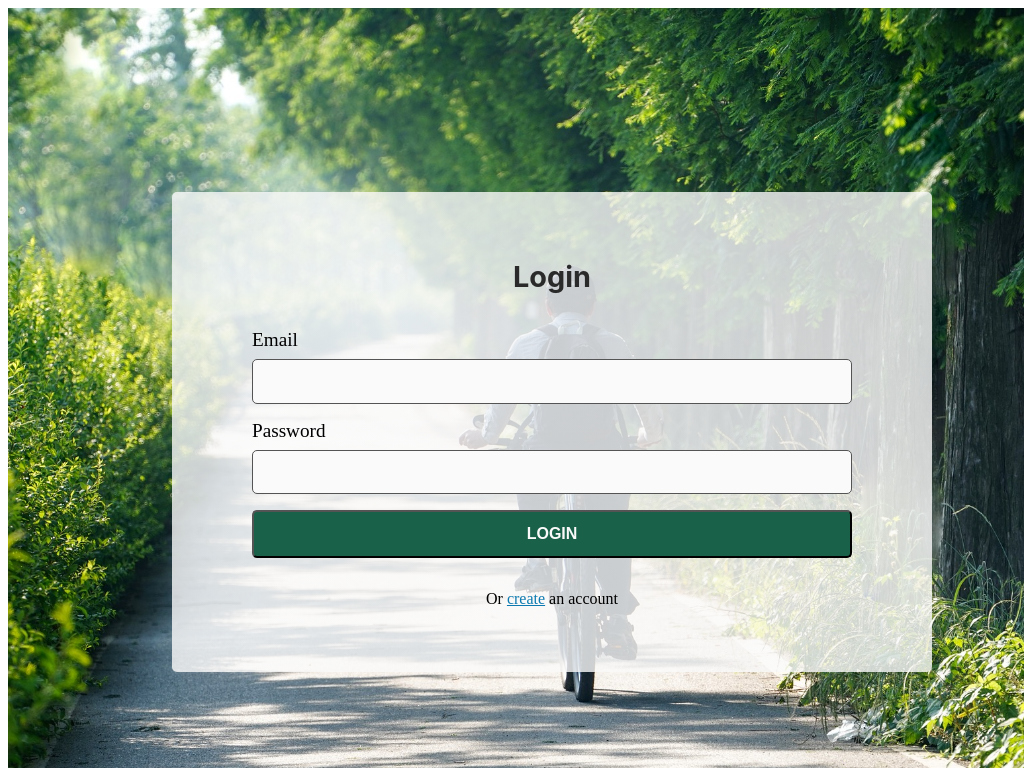
Scenario: LoginPage component › Log in with valid credentials but API returns 500 code
Type "test@example.com" into the field labelled "Email" at [552, 382], box [252,359,852,404]
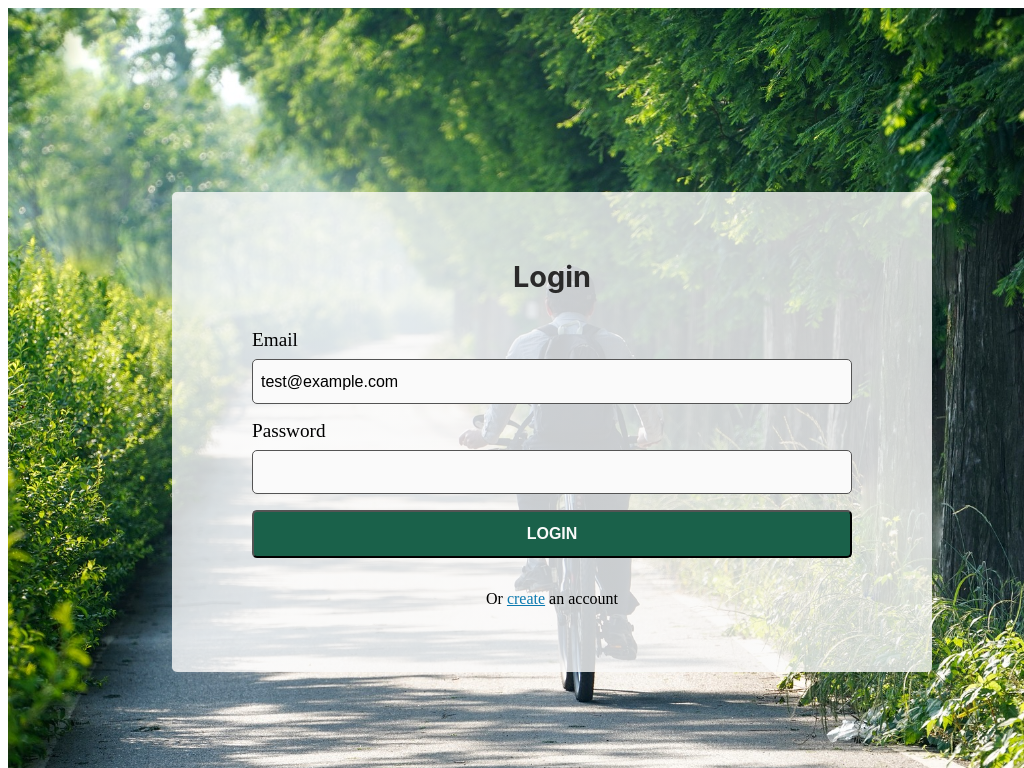
Type "password123" into the password field labelled "Password" at [552, 472], box [252,450,852,494]
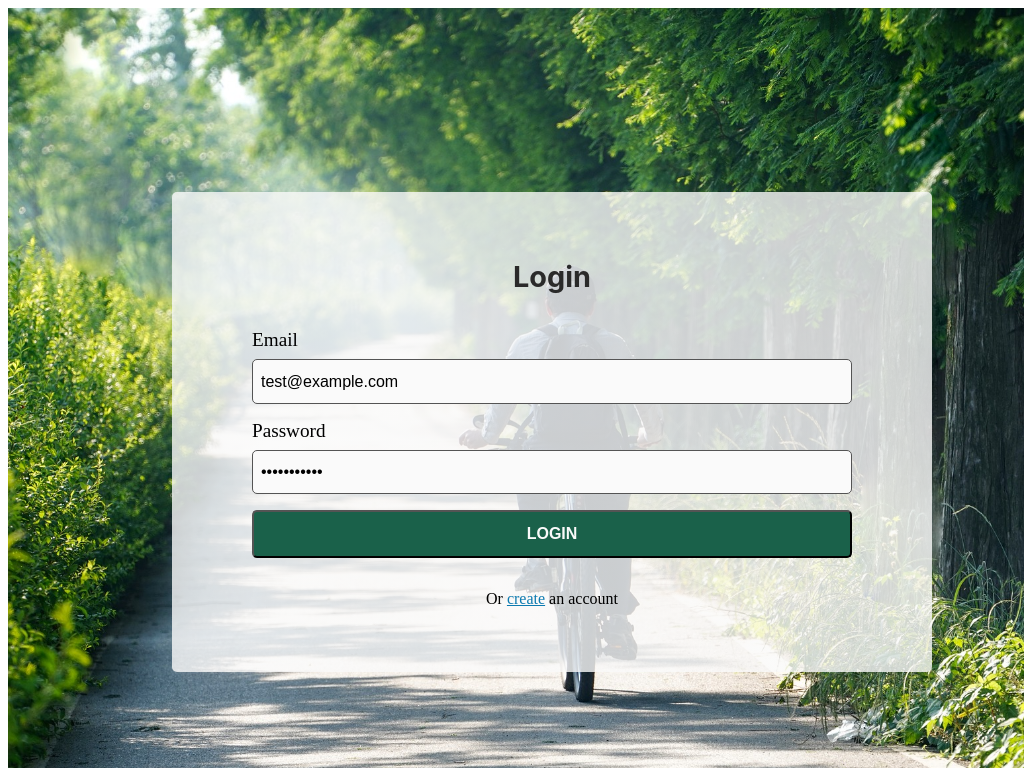
Click the button "Login" at [552, 534], box [252,510,852,558]
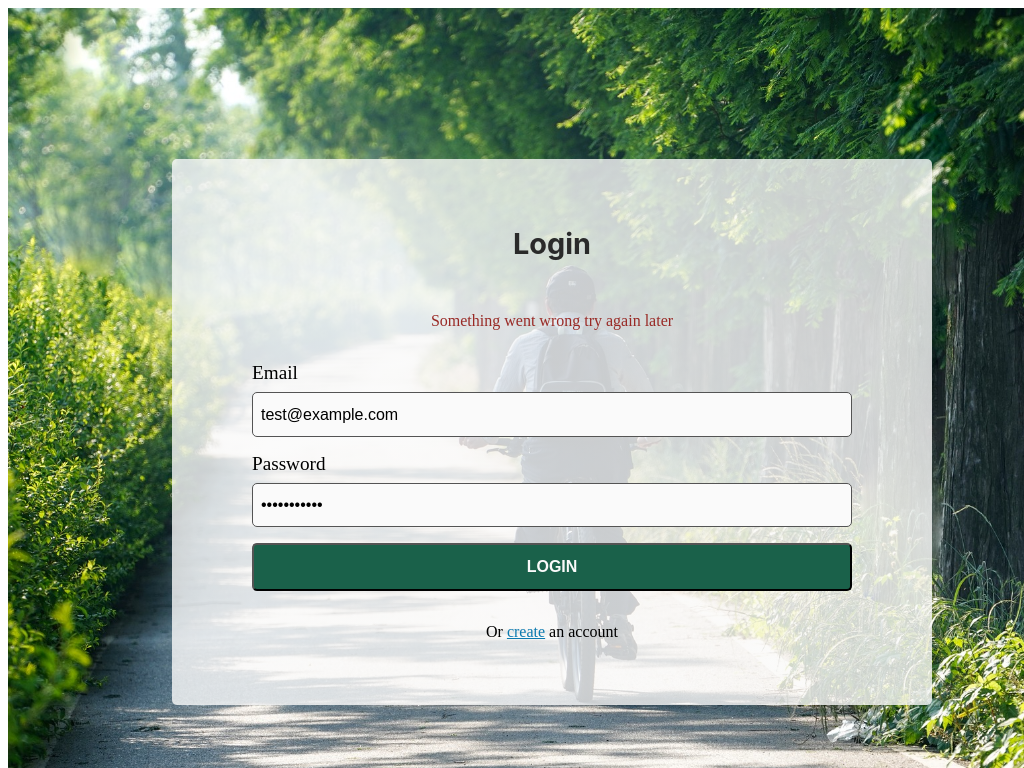
Check: the text "Something went wrong try again later" is shown, box [431,312,673,330]
